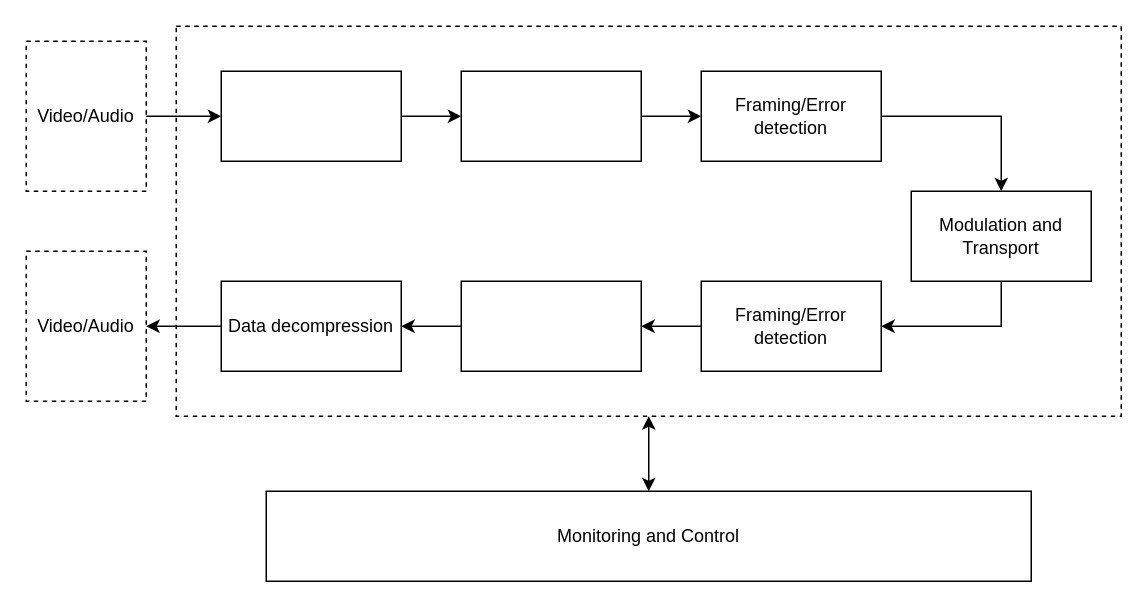
The diagram is 1148 pixels wide and 608 high, and some of its shapes have lost their labels. The shapes that lost their labels are listed below. From the top down, each one's centre as x and y in pixels, then its label:
At pixel 310 115: "Data compression".
At pixel 550 115: "Encryption".
At pixel 550 325: "Decryption".
